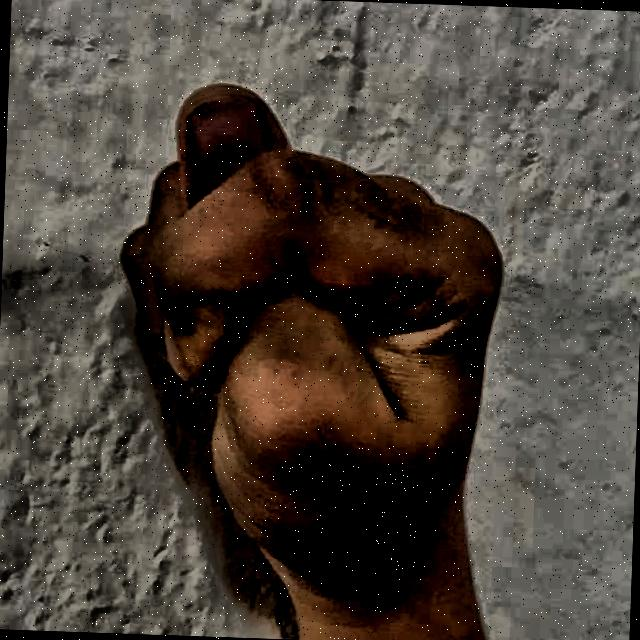Ta: (86, 36, 537, 640)
